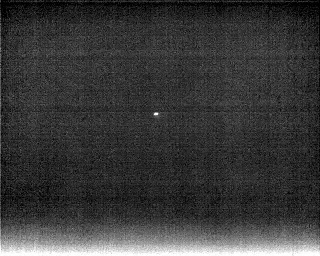BIRD: (152, 109, 161, 119)
